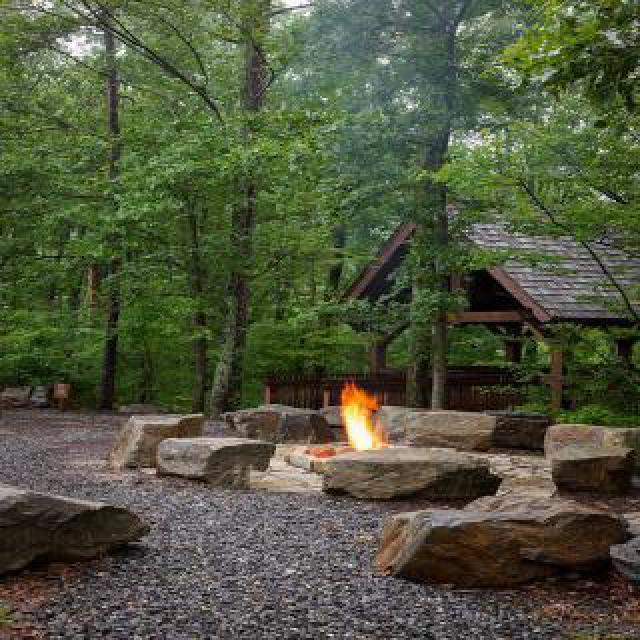Fire: (324, 362, 400, 466)
